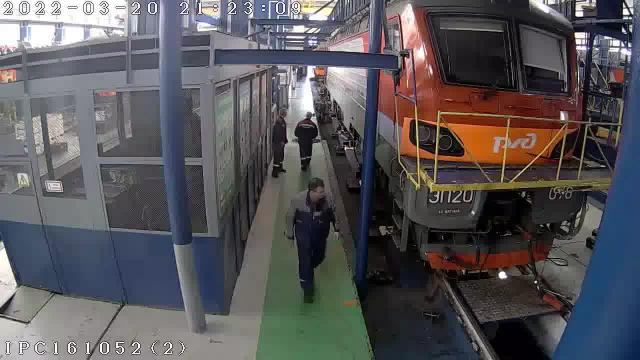person: (286, 178, 338, 302), (294, 112, 318, 170), (272, 108, 287, 177)
train: (376, 0, 585, 270)
